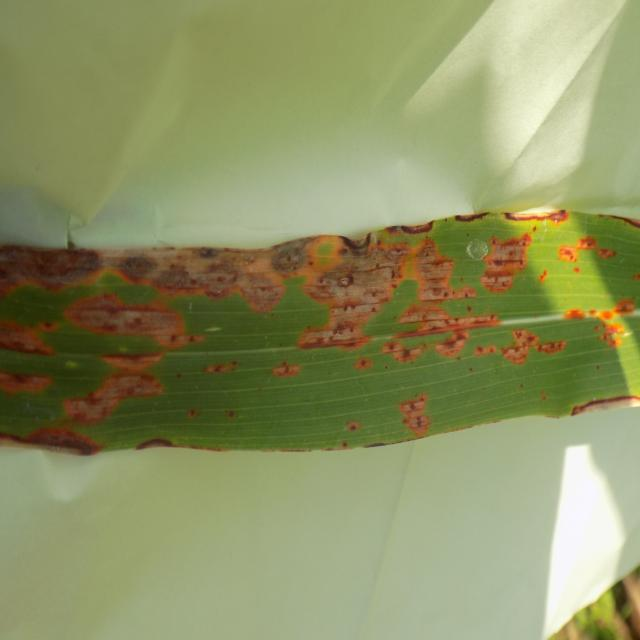millet_rust: (0, 197, 640, 459)
